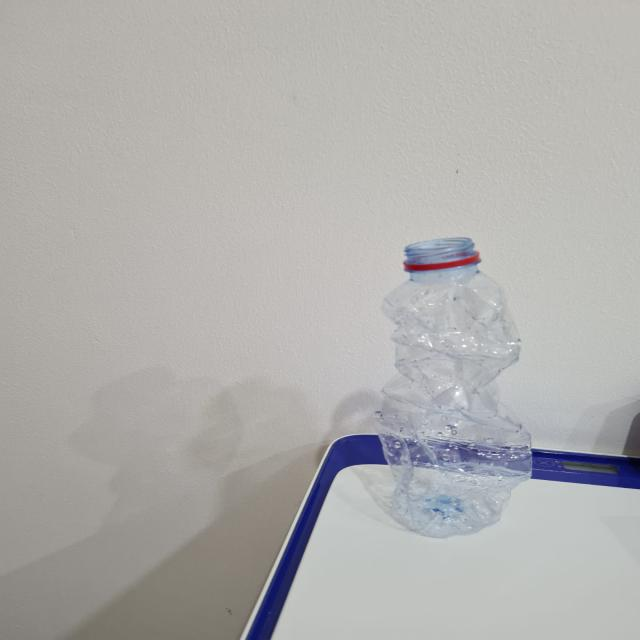plastic bottle: (360, 233, 544, 542)
